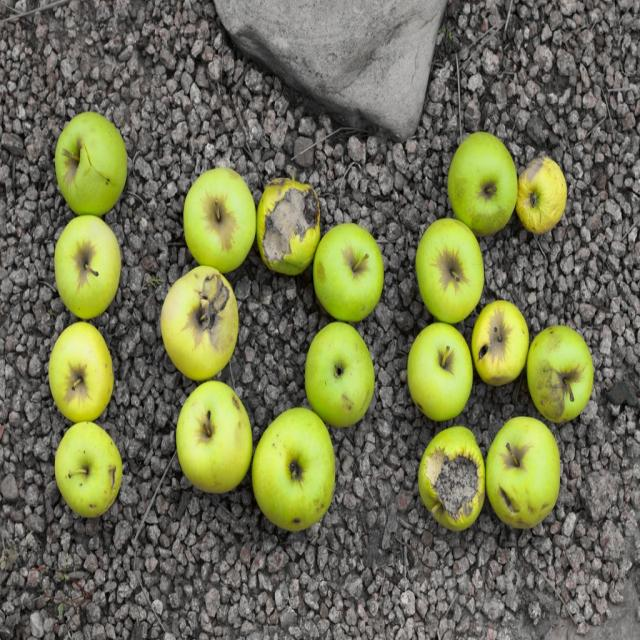Healty Apple: (159, 164, 385, 534), (405, 130, 595, 532), (496, 427, 568, 533), (56, 108, 126, 214), (55, 212, 122, 320), (54, 418, 122, 521), (49, 322, 112, 420)
